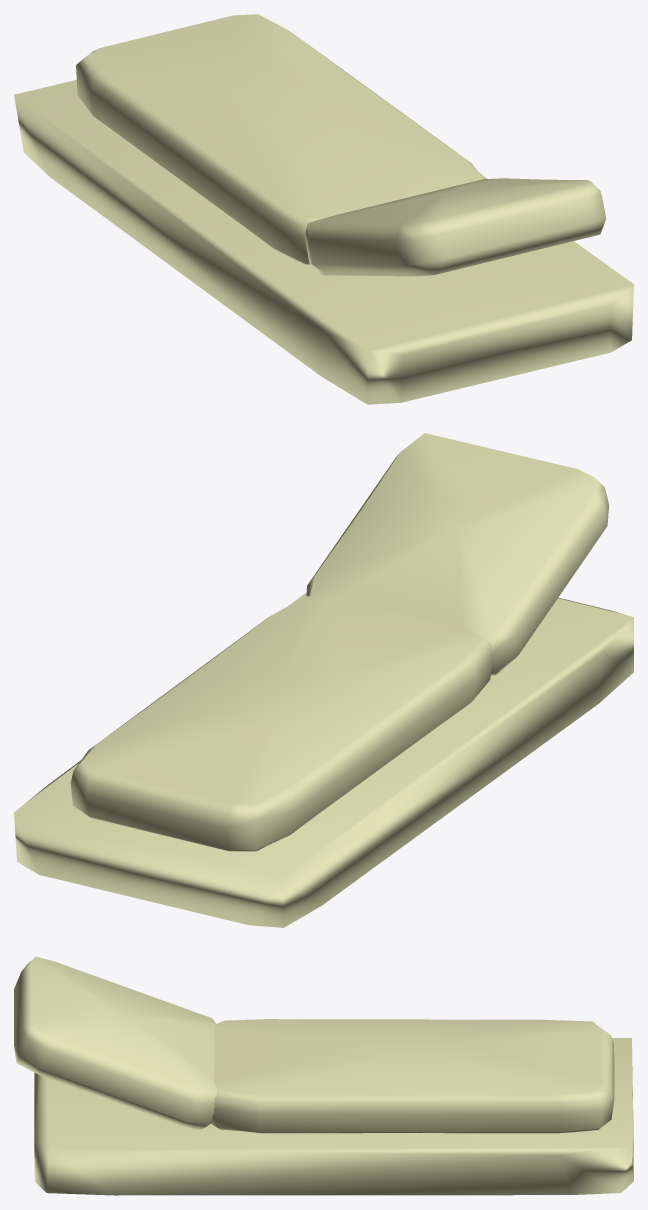
File: Deckchair_01.fbx
The picture shows the model from 3 angles, top to bottom: view 1: azimuth 30°, elevation 25°; view 2: azimuth 150°, elevation 25°; view 3: azimuth 270°, elevation 25°; orthographic projection. The views are drawn at different scales.
Parts seen in each view (by area): view 1: Transat; view 2: Transat; view 3: Transat.
Part boxes in pixels (x1,y1,x2,y2): Transat: (14, 14, 633, 404); Transat: (14, 433, 633, 927); Transat: (14, 956, 633, 1195).
Size of the model in its own units: 1.72 by 1.07 by 4.
